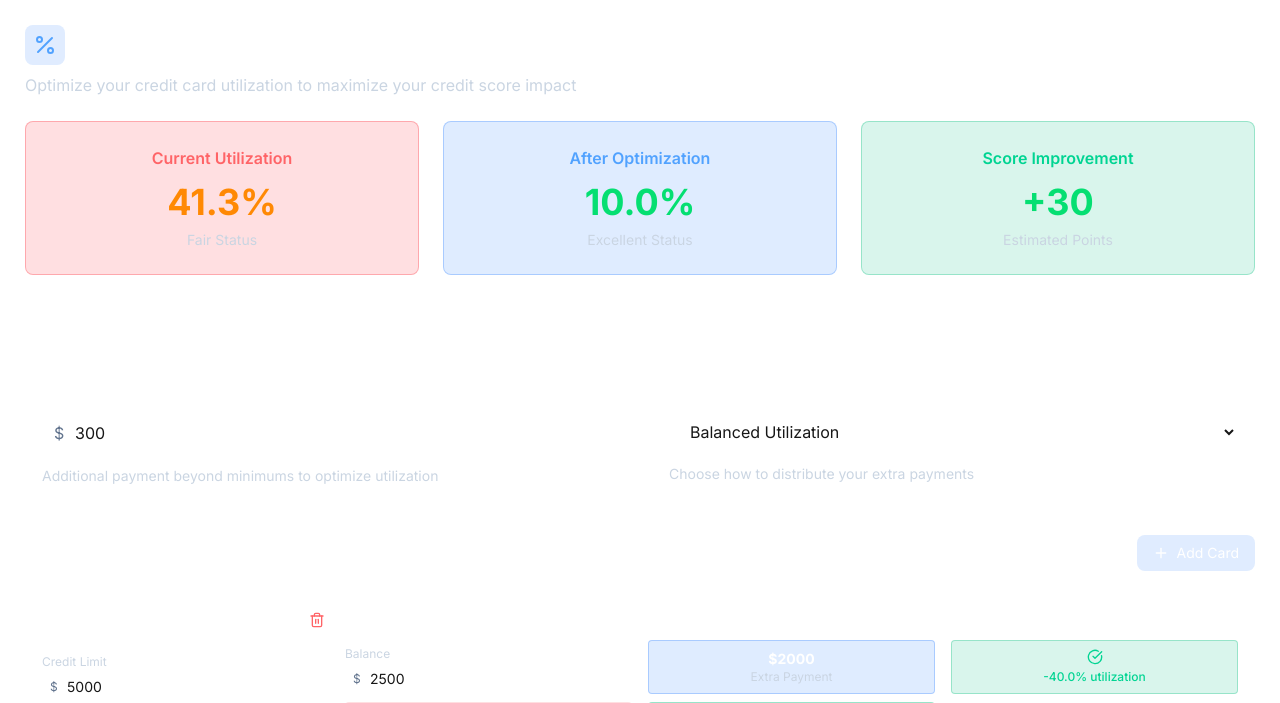
CreditUtilizationCalculator - Enhanced › safeParseFloat Function › handles edge cases correctly
// Test empty string (clearing the input should result in 0 or empty value)
Step 1. Replace the text in the number field named "Available Extra Payment Amount" with "abc" → {"x": 326, "y": 433}, box [42,408,611,458]
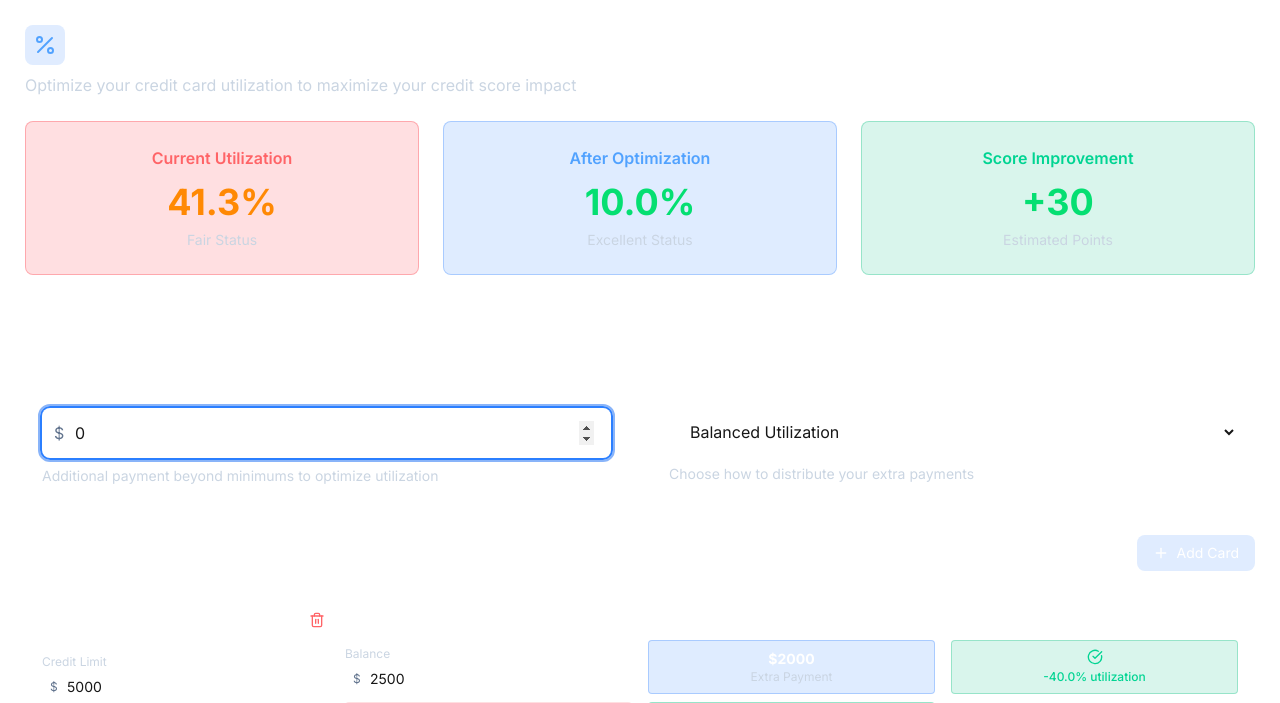
Check: the number field named "Available Extra Payment Amount" holds "0"
// Test very large number (should be capped)
Step 2. Replace the text in the number field named "Available Extra Payment Amount" with "999999999" → {"x": 326, "y": 433}, box [42,408,611,458]
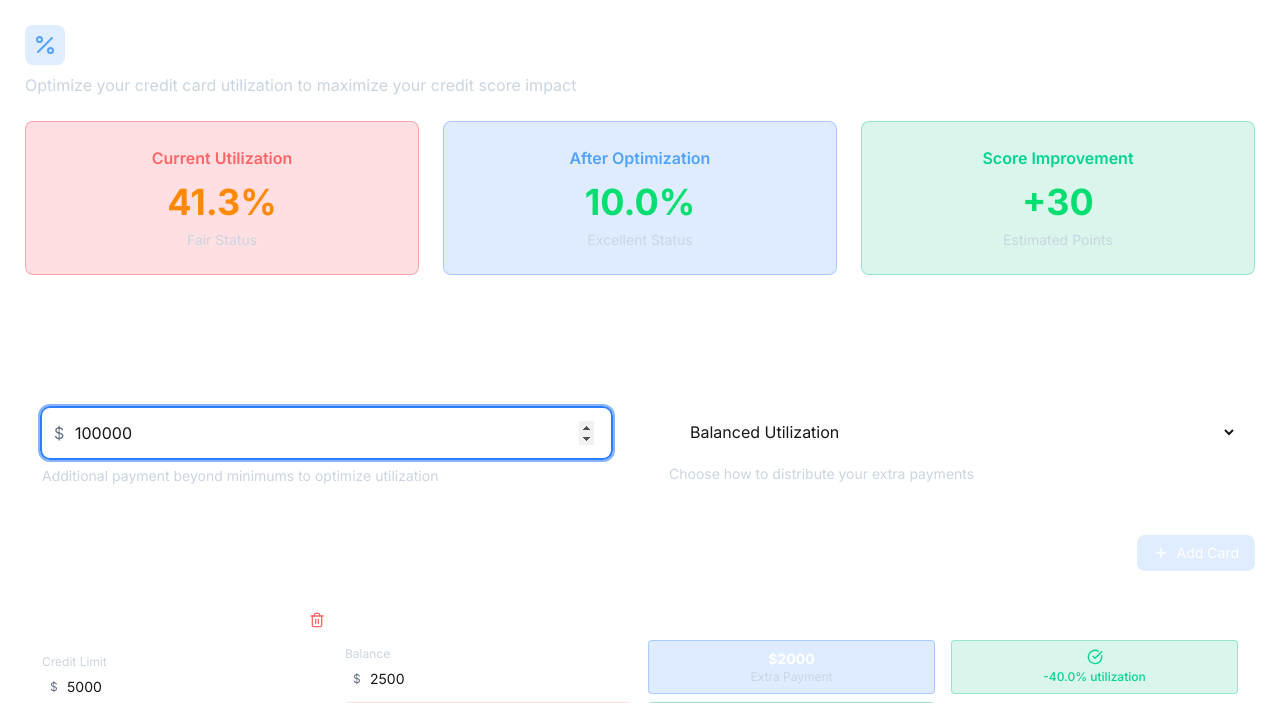
Check: the number field named "Available Extra Payment Amount" holds "100000", box [42,408,611,458]
